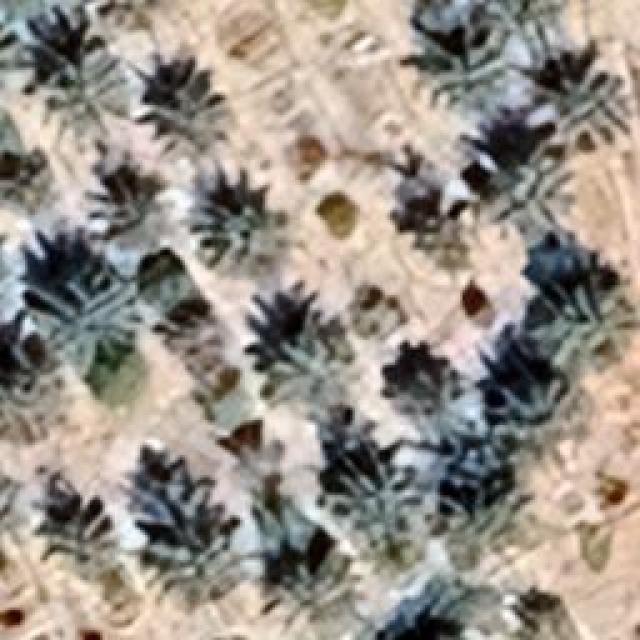PalmTree: (222, 440, 328, 550), (38, 40, 130, 158), (53, 80, 76, 530), (34, 255, 124, 368), (150, 497, 244, 598), (482, 148, 580, 242), (132, 75, 232, 163), (530, 70, 628, 152), (190, 205, 295, 280), (442, 450, 522, 548), (395, 360, 483, 445), (432, 20, 518, 105), (82, 165, 170, 248), (100, 238, 188, 320), (484, 364, 572, 446), (265, 560, 365, 630), (541, 278, 629, 354), (128, 475, 222, 545), (272, 332, 358, 400), (328, 460, 422, 522), (477, 0, 567, 62), (166, 534, 244, 602), (0, 337, 58, 425), (501, 586, 575, 640), (25, 68, 53, 184), (81, 0, 176, 33), (0, 478, 26, 572), (0, 19, 28, 98), (0, 0, 73, 28), (0, 244, 23, 331), (0, 15, 18, 100), (0, 243, 16, 327)
